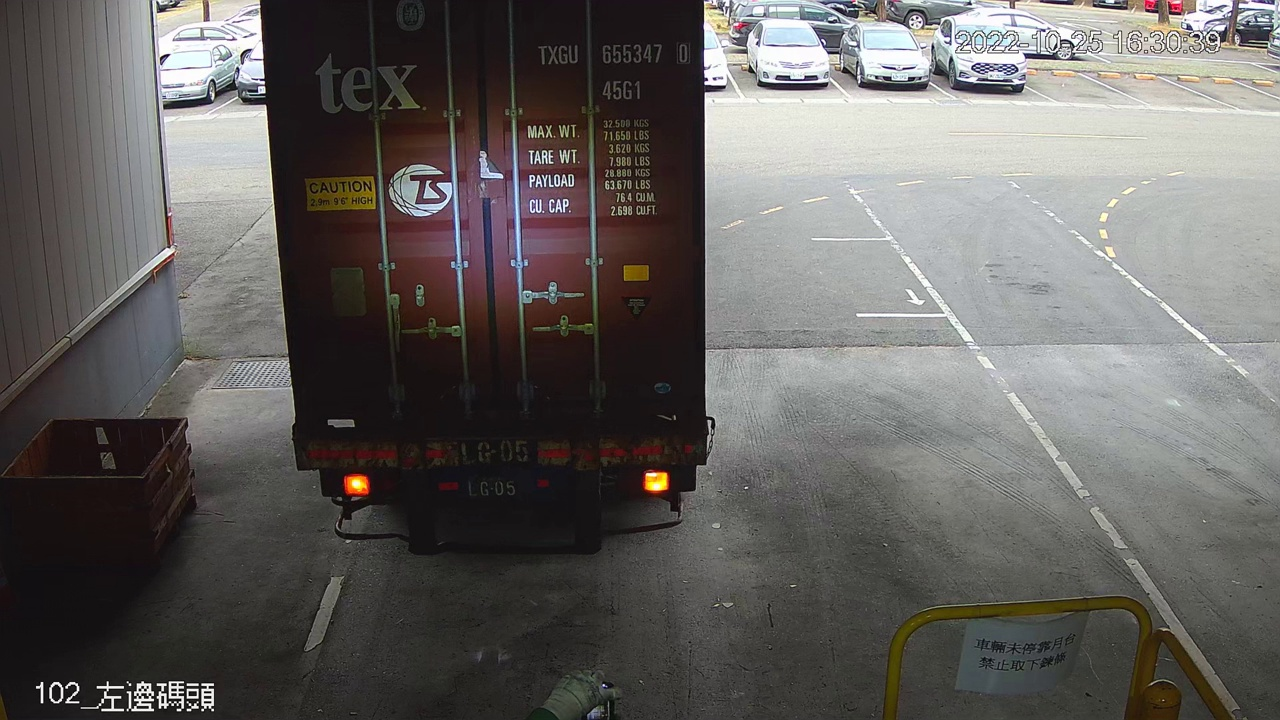container: (530, 34, 697, 105)
